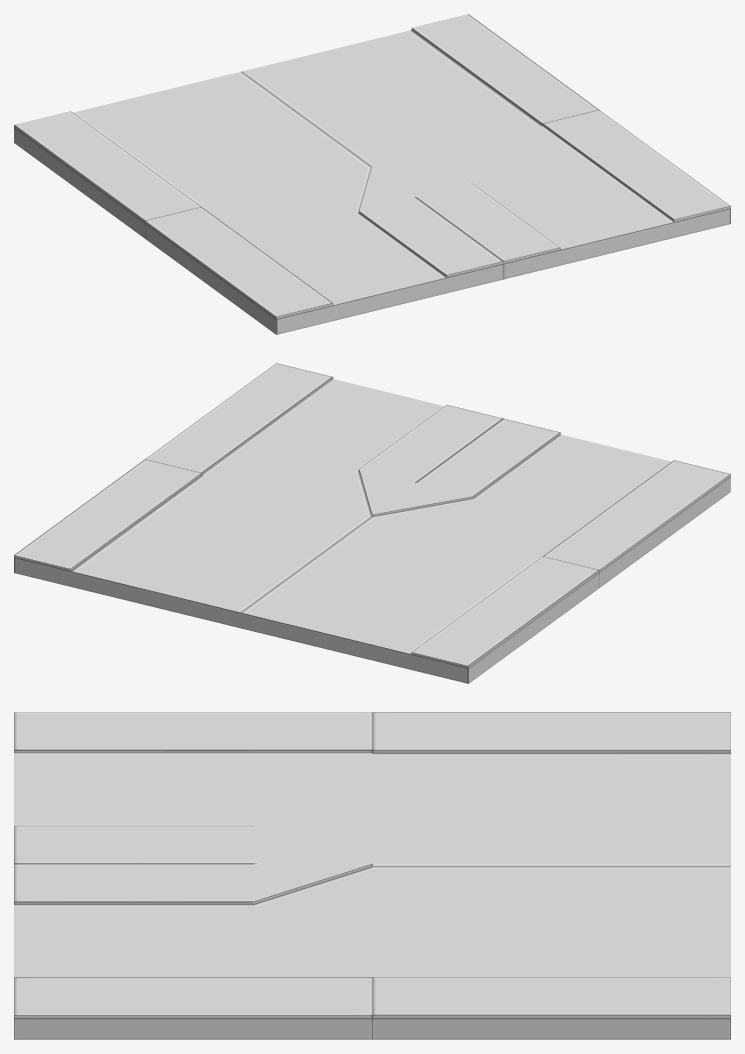
Rendered from Road-12.fbx.
3 views of the same model, one above another, from view 1: azimuth 30°, elevation 25°; view 2: azimuth 150°, elevation 25°; view 3: azimuth 270°, elevation 25° (orthographic). The views are drawn at different scales.
Visible parts, largest first — view 1: Road_12; view 2: Road_12; view 3: Road_12.
Boxes of the visible parts, box(x1,y1,x2,y2) form: Road_12: box(14, 14, 730, 334); Road_12: box(14, 363, 730, 683); Road_12: box(14, 712, 730, 1039).
Bounding box in the file's own units: 8 × 0.3 × 8.
